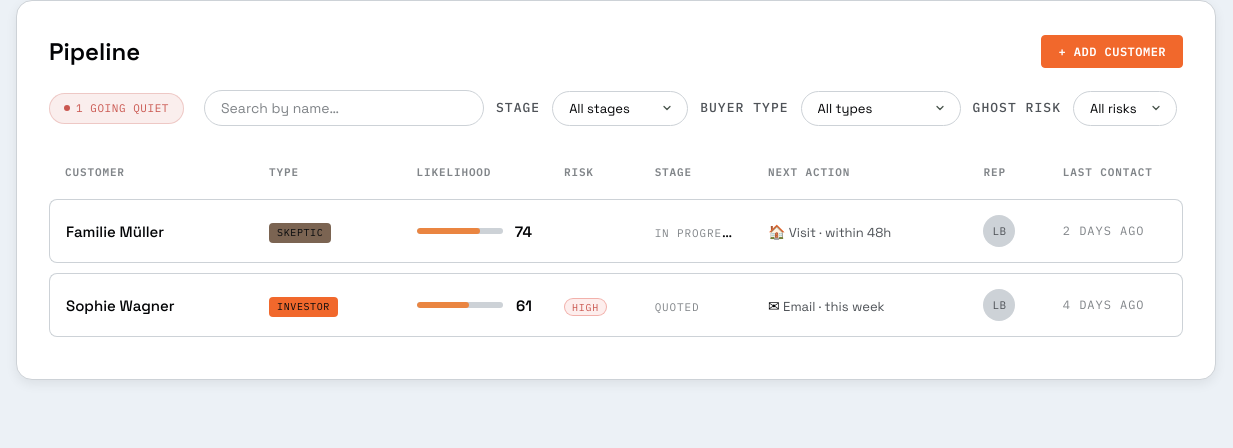
Dashboard › Clear filters button resets filters and restores rows
The image size is (1233, 448).
Expected: the text "Familie Müller" is shown, [66,222,164,241]
// Apply a search that zeros rows
Step 1. Type "zzzzzzz" into the search field → [344, 108], box [204,90,484,126]
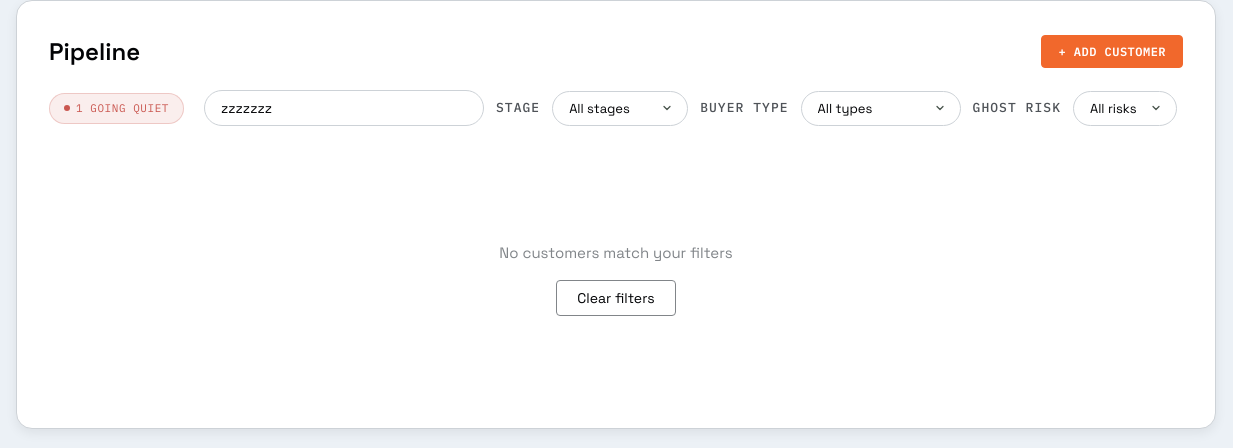
Result: the text "No customers match your filters" is shown at [499,243,733,262]
// Click Clear filters
Step 2. Click the button "Clear filters" → [616, 298], box [556,280,676,316]
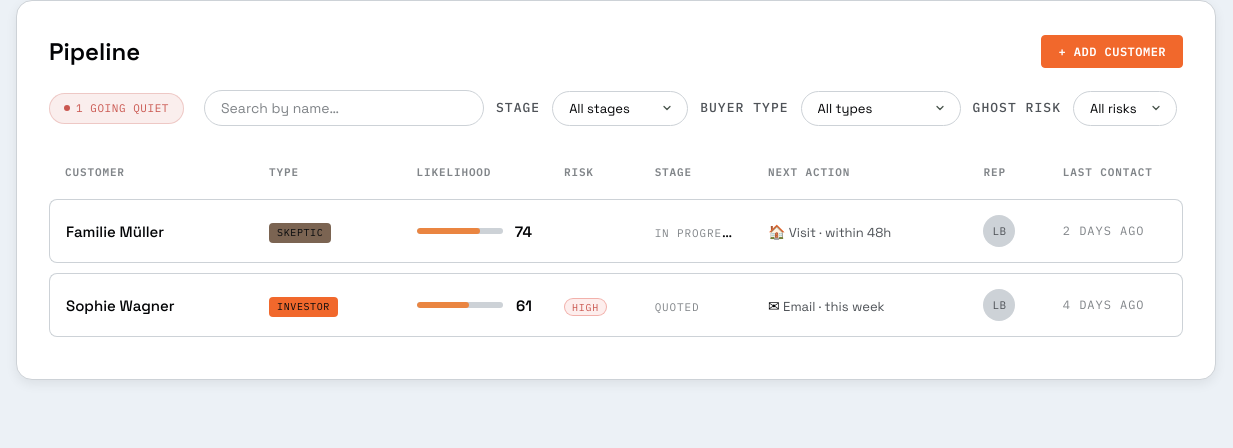
Result: the text "Familie Müller" is shown at [66,222,164,241]
Result: the text "Sophie Wagner" is shown at [66,296,175,315]
